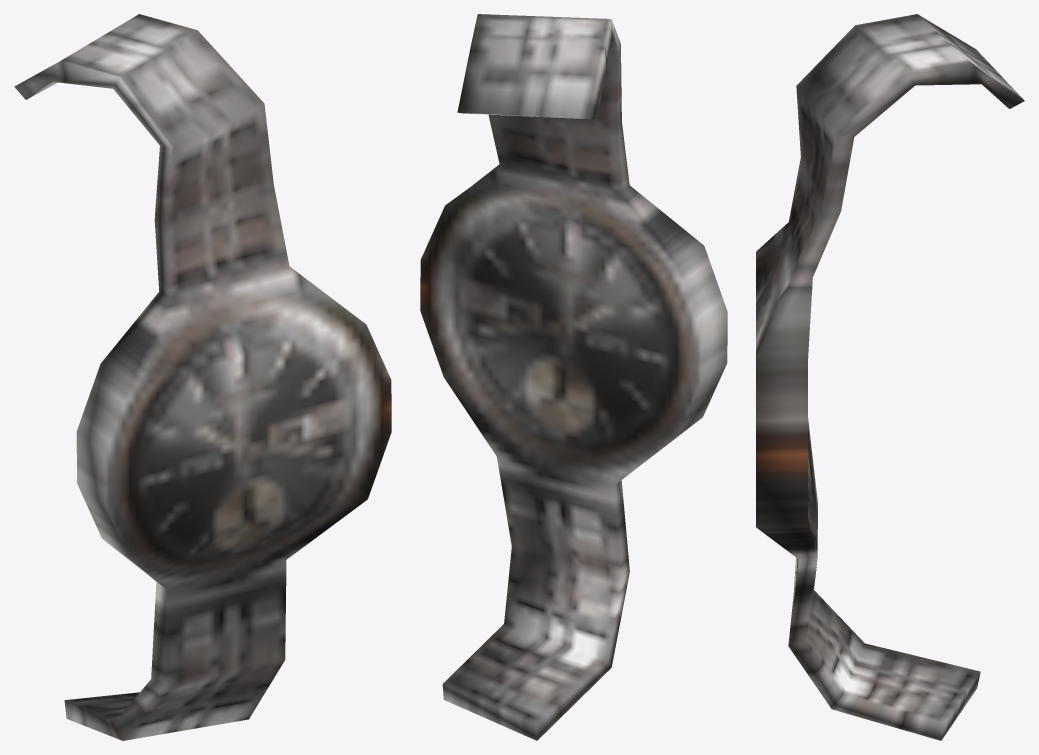
File: watch.fbx
3 renders of one model, left to right at view 1: azimuth 30°, elevation 25°; view 2: azimuth 150°, elevation 25°; view 3: azimuth 270°, elevation 25°, orthographic. The views are drawn at different scales.
Visible parts, largest first — view 1: Circle.036; view 2: Circle.036; view 3: Circle.036.
Part boxes in pixels (x1,y1,x2,y2): Circle.036: (14,14,391,740); Circle.036: (420,14,727,740); Circle.036: (756,14,1024,740).
Size of the model in its own units: 14.53 by 33.35 by 12.36.
1 material, 1 textured.
